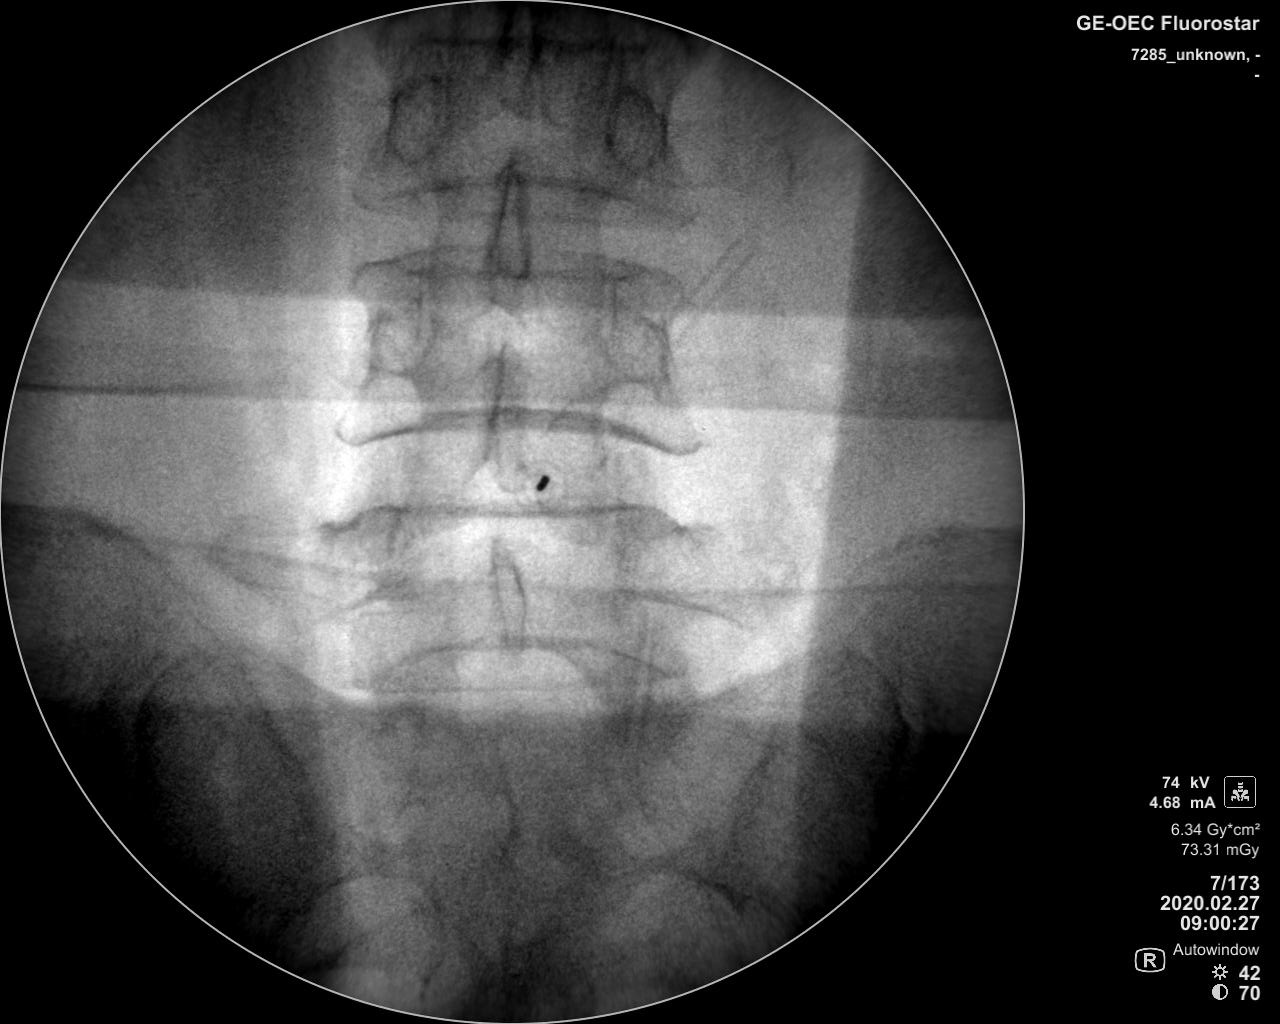eyes: (599, 293, 673, 391), (362, 282, 434, 375), (602, 78, 671, 173), (386, 70, 450, 167)
line: (338, 178, 706, 240), (324, 576, 750, 626), (348, 637, 691, 699), (333, 405, 695, 463), (360, 241, 664, 284), (339, 498, 683, 534), (388, 33, 697, 62)
nose: (483, 345, 538, 495), (492, 157, 534, 313), (487, 534, 534, 665), (495, 4, 542, 119)
